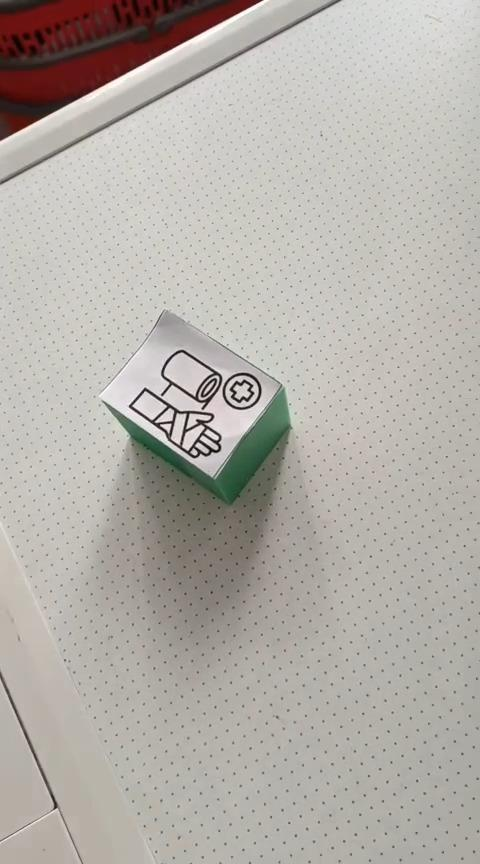Bandages: (97, 307, 291, 505)
